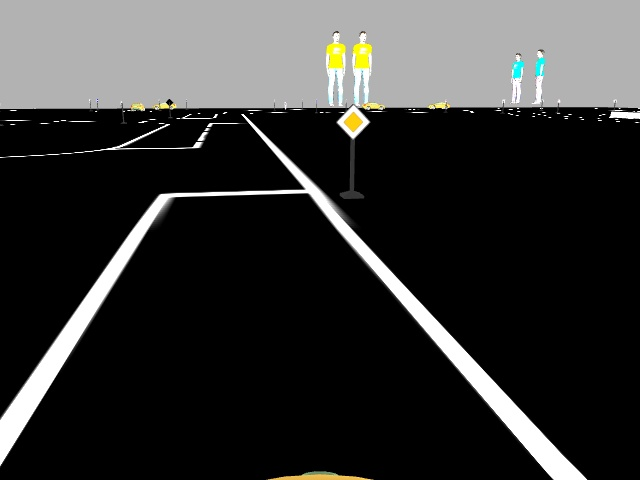Priority: (338, 105, 368, 137)
